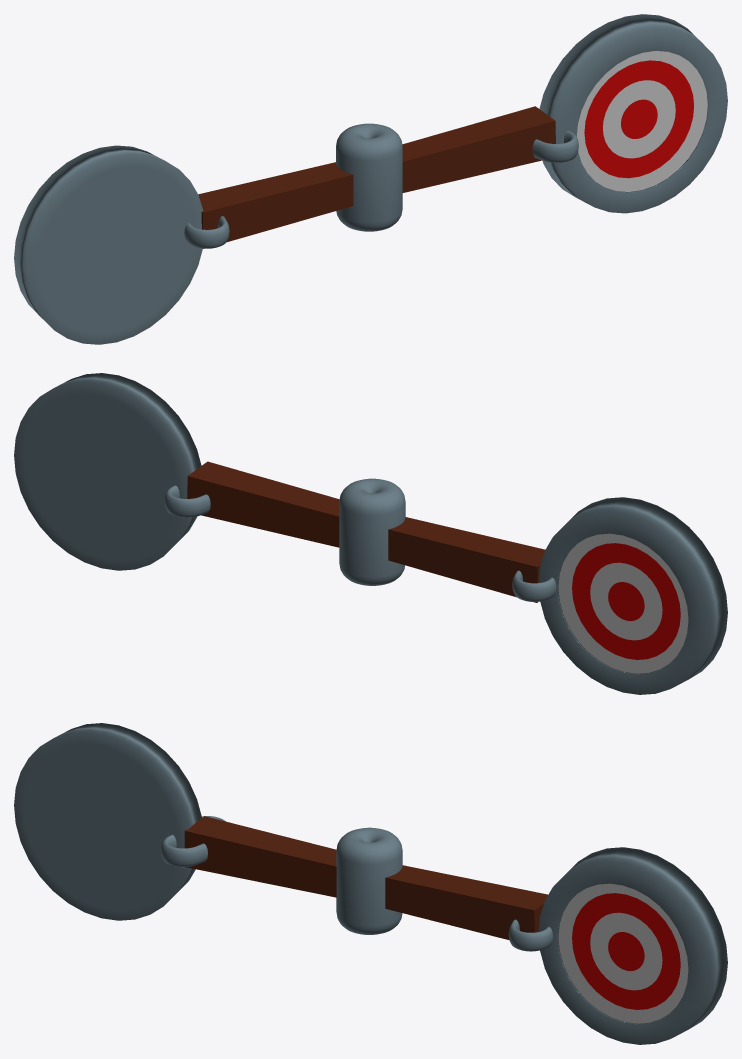
Rendered from target_rotating_top.obj.
3 views of the same model, one above another, from view 1: azimuth 30°, elevation 25°; view 2: azimuth 150°, elevation 25°; view 3: azimuth 330°, elevation 25° (orthographic).
Parts seen in each view (by area): view 1: target_rotating_top; view 2: target_rotating_top; view 3: target_rotating_top.
Boxes of the visible parts, box(x1,y1,x2,y2) form: target_rotating_top: box(14, 14, 727, 344); target_rotating_top: box(14, 373, 727, 694); target_rotating_top: box(14, 723, 727, 1044).
Bounding box in the file's own units: 6.42 × 1.61 × 0.7519.
